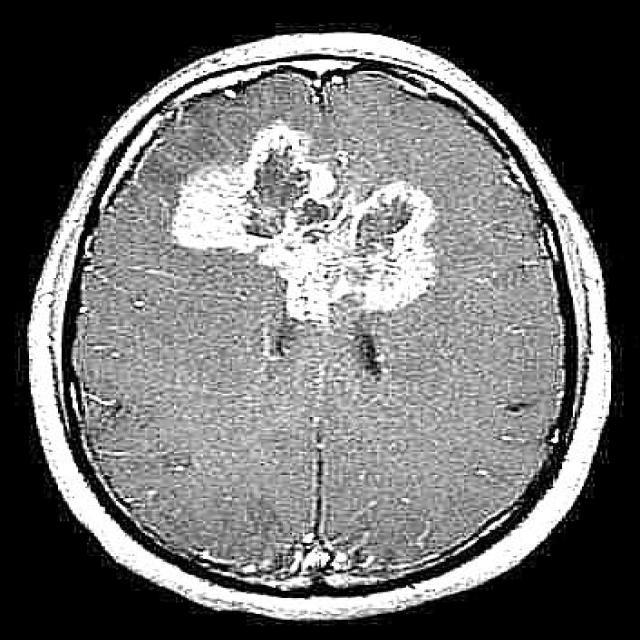brain tumor: (169, 122, 437, 326)
